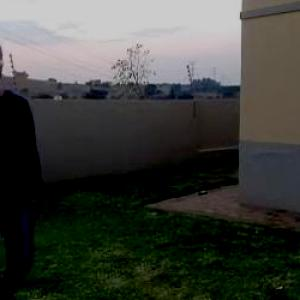follow: (1, 29, 54, 299)
